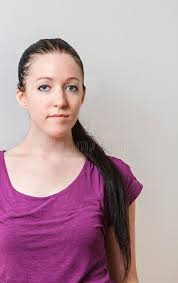person: (16, 38, 87, 140)
